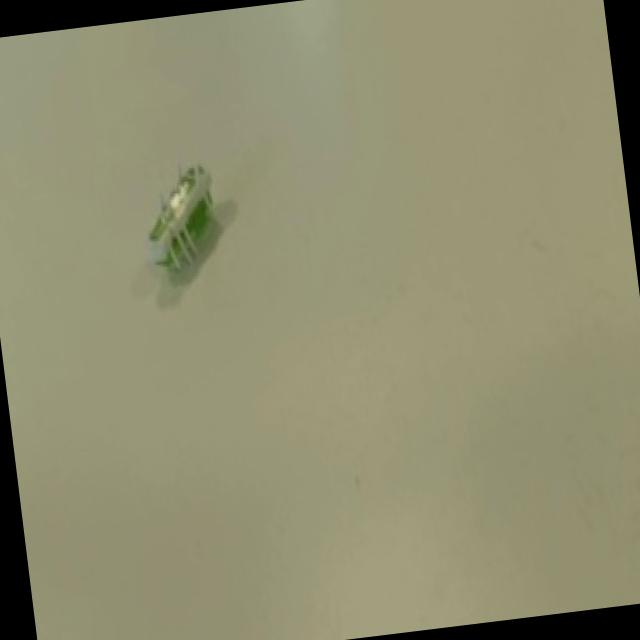4_NanoBug_Blanco: (87, 112, 270, 320)
